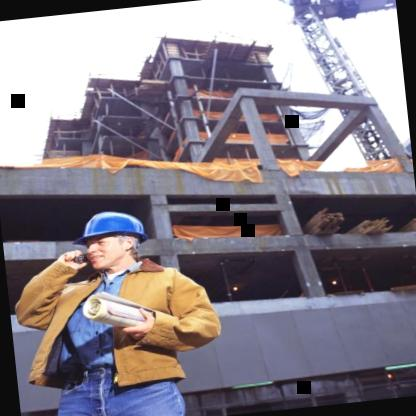helmet: (65, 200, 155, 277)
